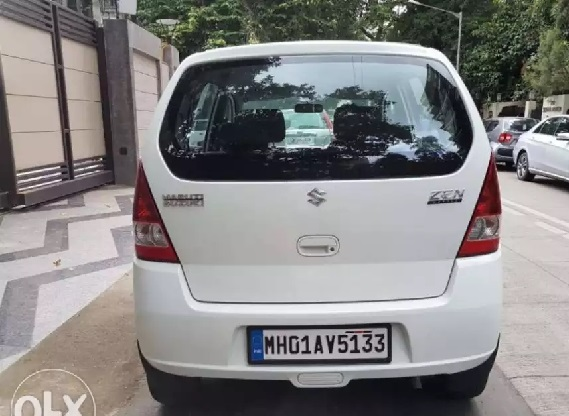licenseplate: (244, 322, 395, 368)
